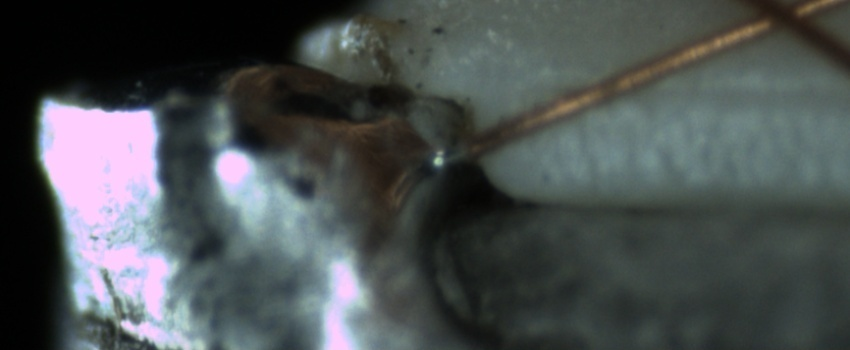CL: (725, 0, 832, 43)
DL: (569, 56, 847, 126)
TS: (429, 141, 464, 171)
